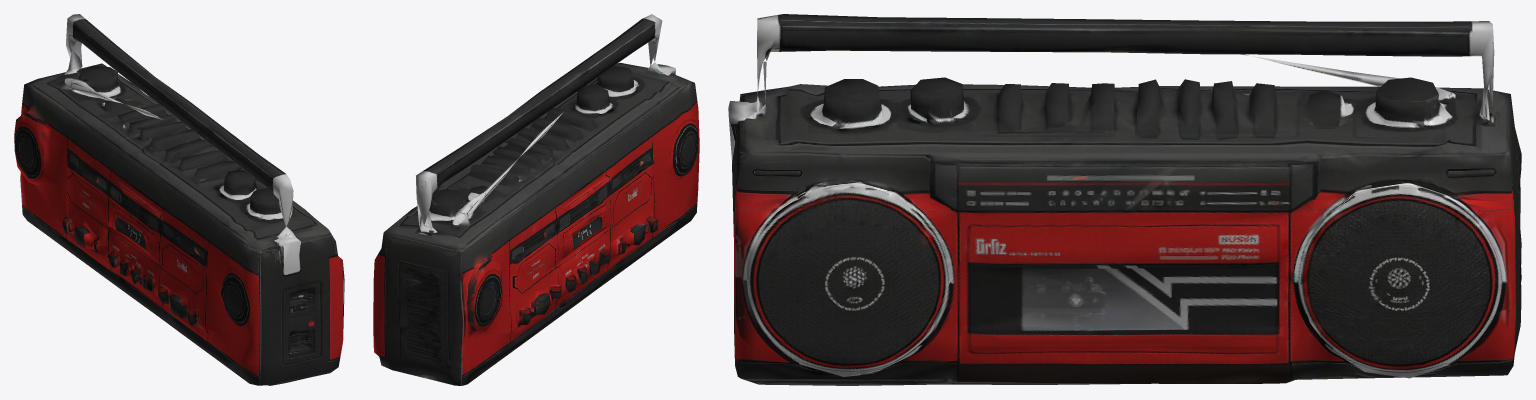
The model's file is radio.fbx.
3 renders of one model, left to right at view 1: azimuth 30°, elevation 25°; view 2: azimuth 150°, elevation 25°; view 3: azimuth 270°, elevation 25°, orthographic. The views are drawn at different scales.
Parts seen in each view (by area): view 1: tripo_node_80c3df05; view 2: tripo_node_80c3df05; view 3: tripo_node_80c3df05.
Part boxes in pixels (<box>): tripo_node_80c3df05: <box>14,14,344,385</box>; tripo_node_80c3df05: <box>373,14,699,385</box>; tripo_node_80c3df05: <box>728,14,1521,385</box>.
Bounding box in the file's own units: 0.2649 × 0.4619 × 0.9989.
Materials: 1 (1 with a texture image).
